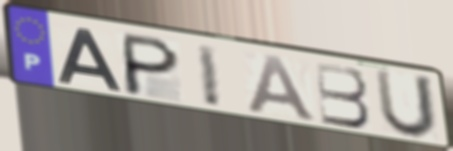A: (245, 52, 321, 125), (55, 25, 125, 94)
B: (312, 60, 374, 130)
I: (194, 42, 224, 110)
P: (121, 31, 183, 99)
U: (372, 66, 439, 142)
